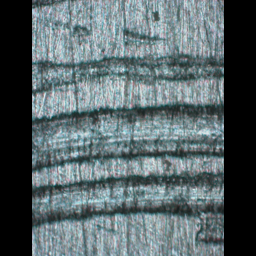d: (32, 40, 224, 236)
